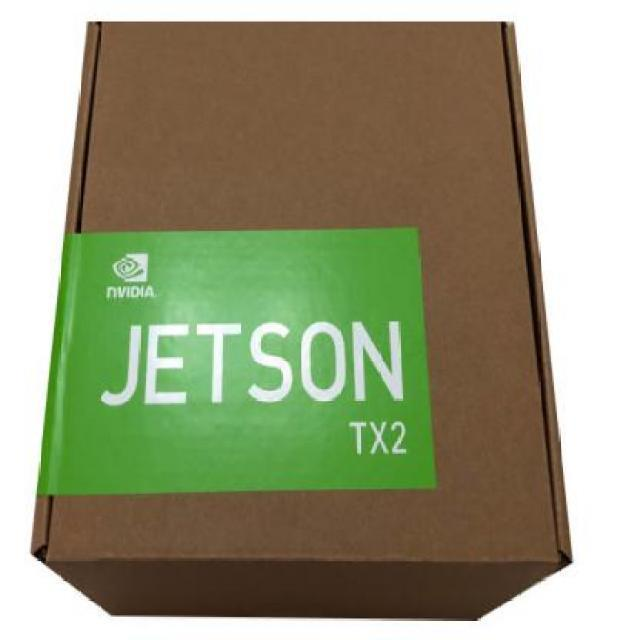box: (32, 16, 570, 624)
